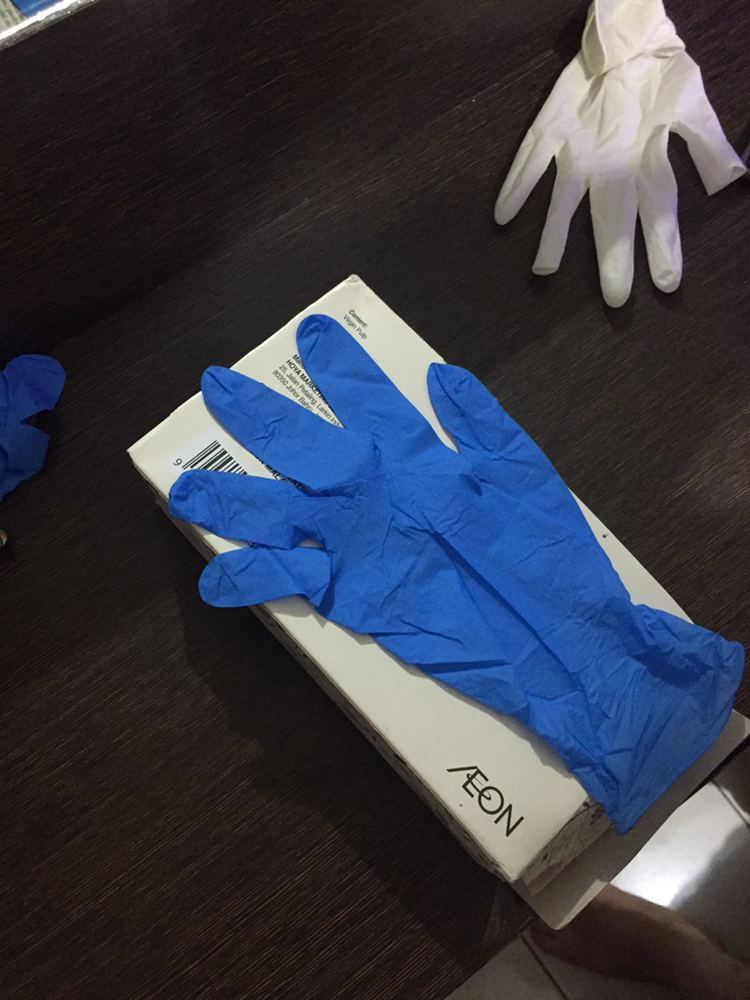glove: (164, 322, 745, 840)
